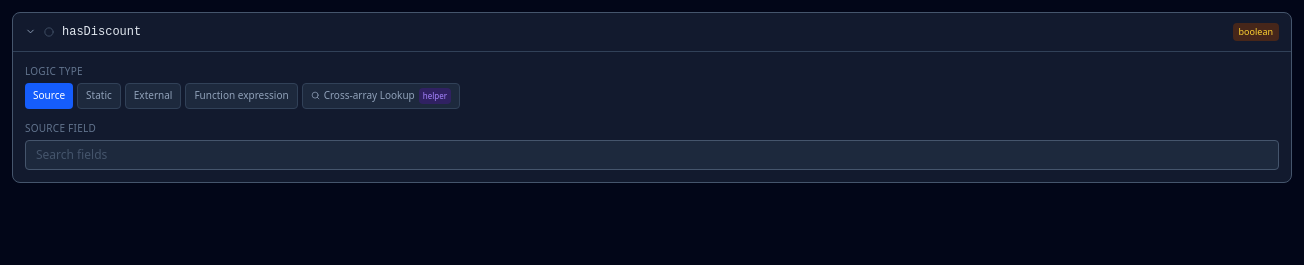
Test case: ItemFieldRow › hides source dropdown by default and shows it on search focus
Click the field with test id "field-search-hasDiscount" at (652, 154), box [25,140,1279,170]
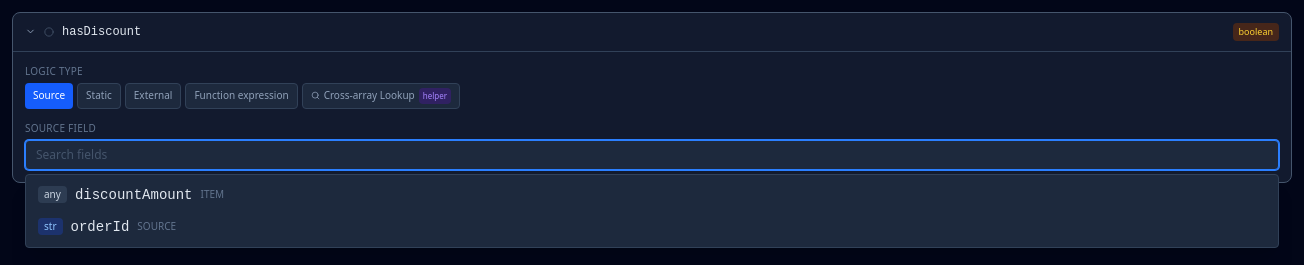
Result: the list with test id "field-listbox-hasDiscount" is shown at [25,174,1279,248]
